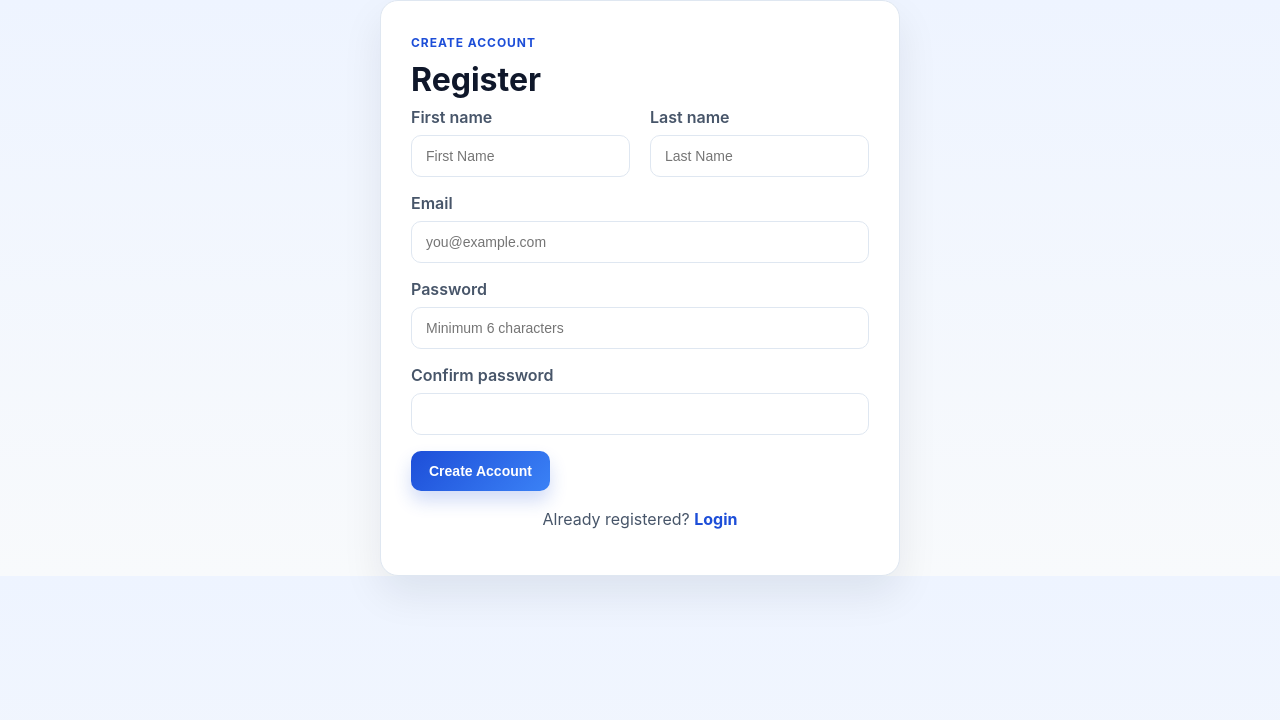
Test case: registration form validation › rejects a password mismatch without submitting
The image size is (1280, 720).
Type "Demo" into the field labelled "First name".
click(520, 156); type("Demo")  # box [411,135,630,177]
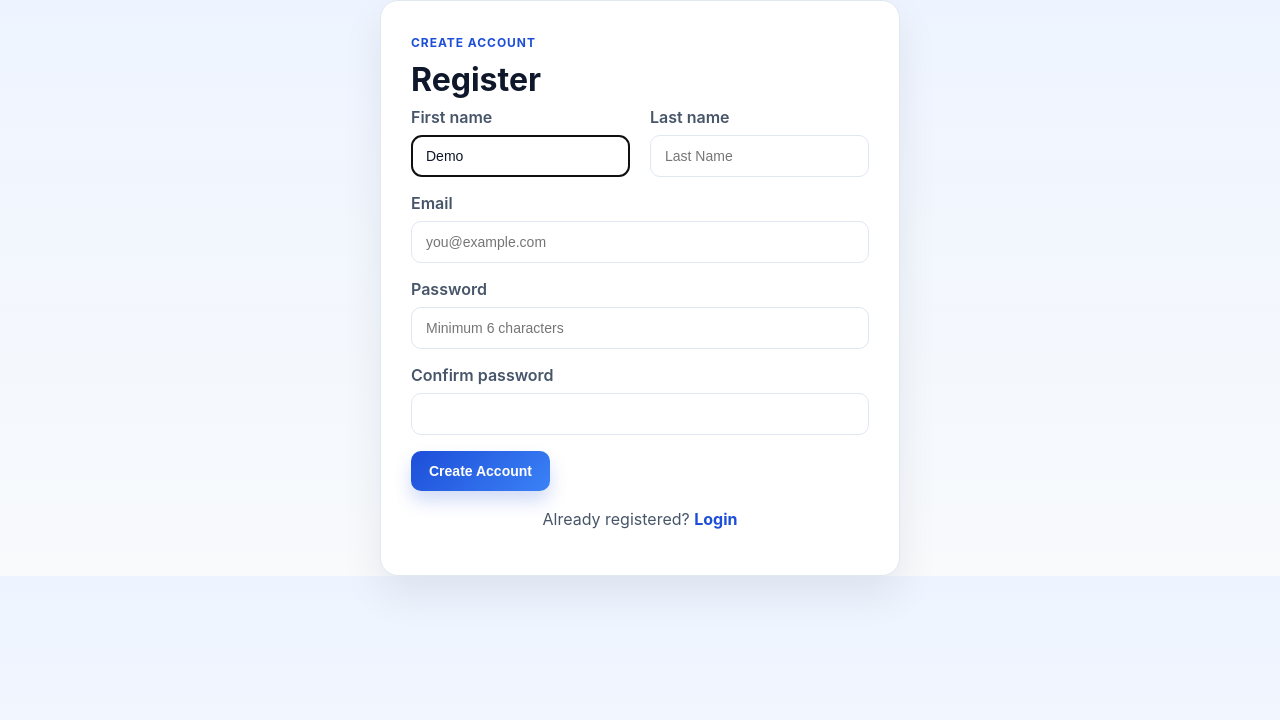
Type "Customer" into the field labelled "Last name".
click(760, 156); type("Customer")  # box [650,135,869,177]
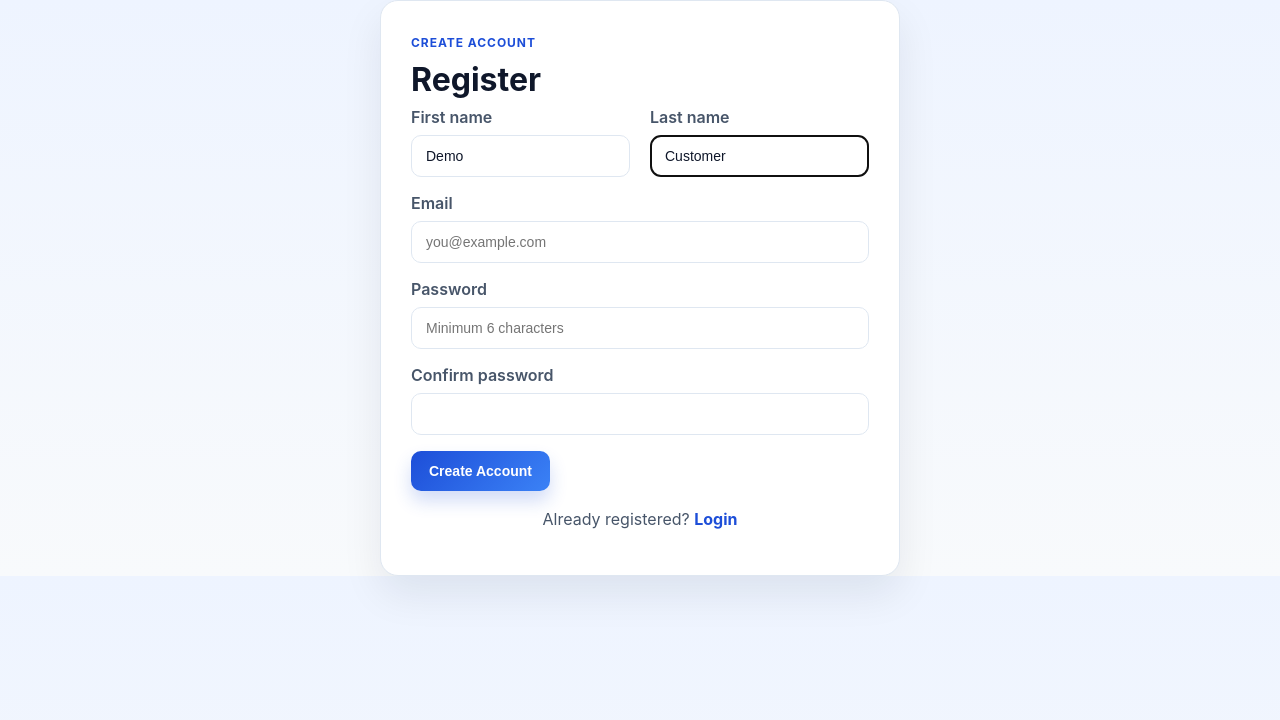
Type "customer@example.test" into the field labelled "Email".
click(640, 242); type("customer@example.test")  # box [411,221,869,263]
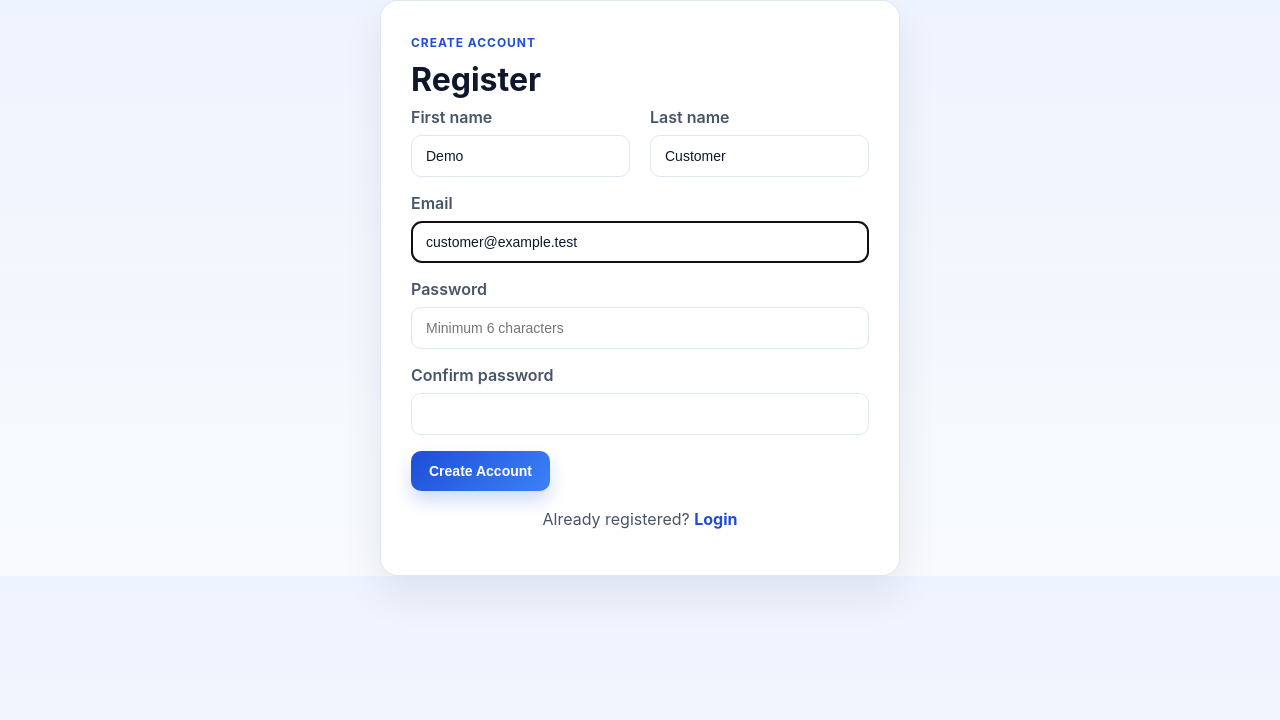
Type "password123" into the password field labelled "Password".
click(640, 328); type("password123")  # box [411,307,869,349]
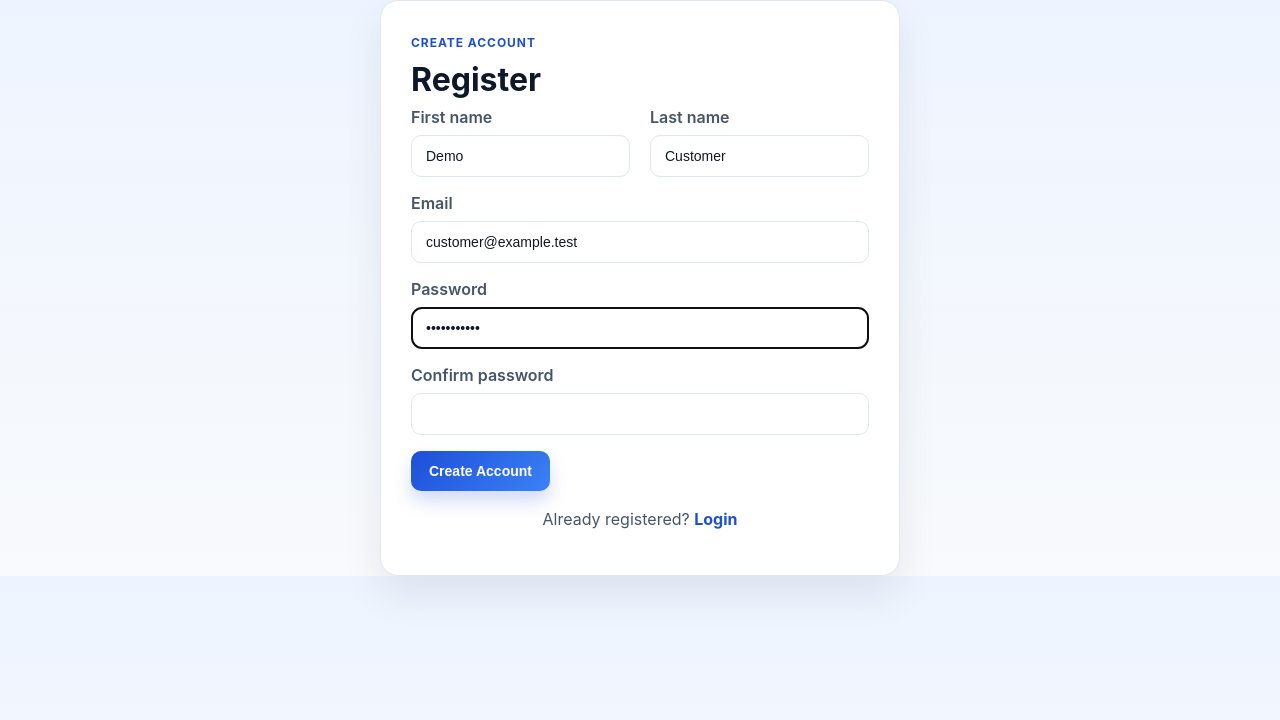
Type "different123" into the password field labelled "Confirm password".
click(640, 414); type("different123")  # box [411,393,869,435]
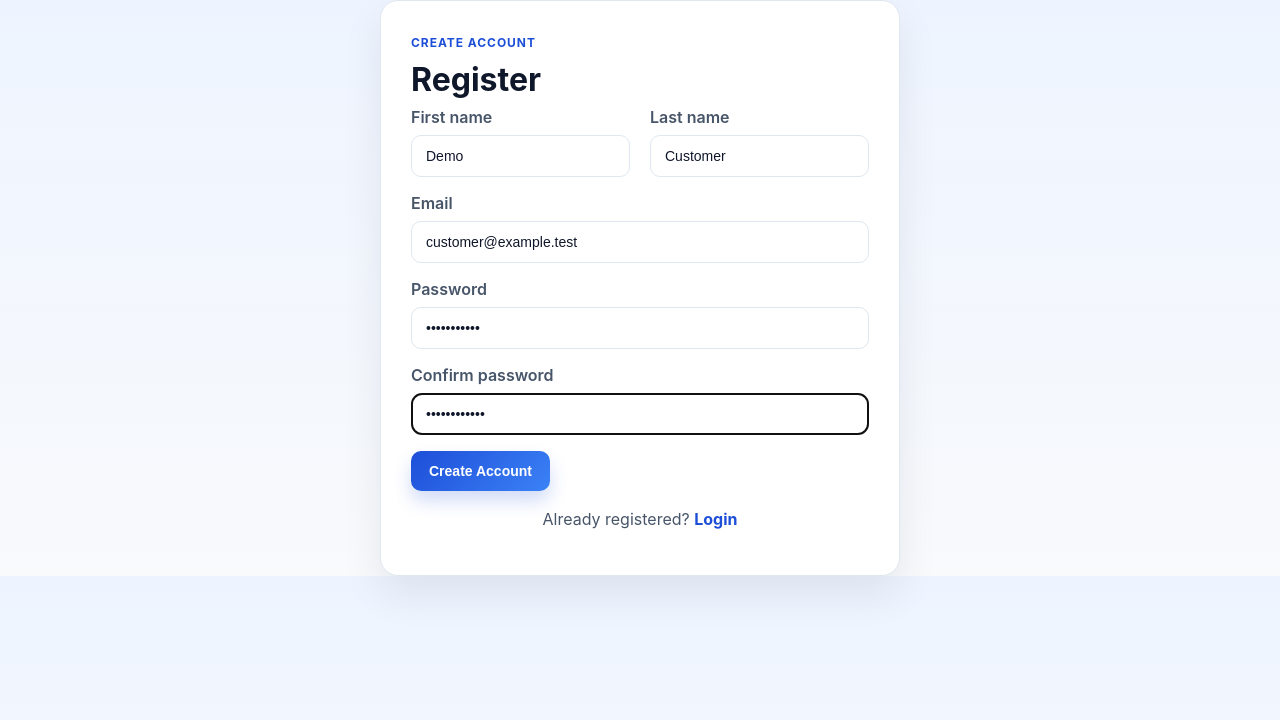
Click the button "Create Account".
click(480, 471)  # box [411,451,550,491]
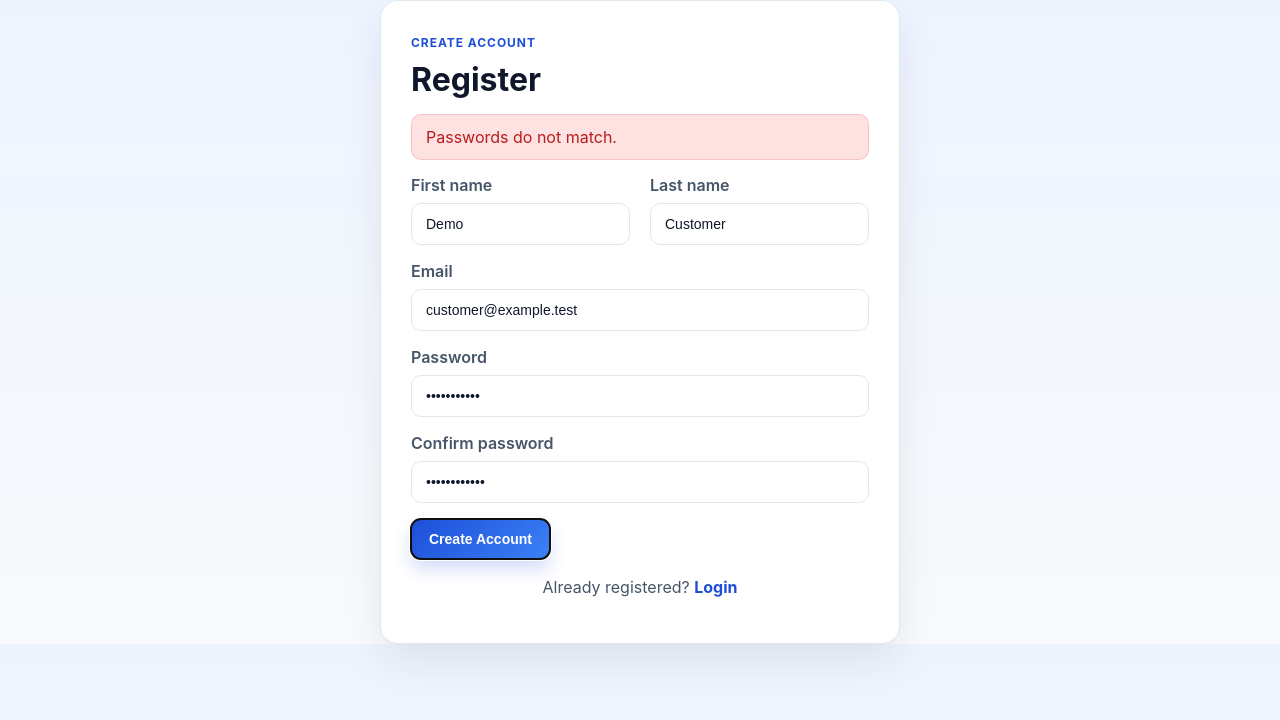
Result: the text "Passwords do not match." is shown at [411,114,869,160]
